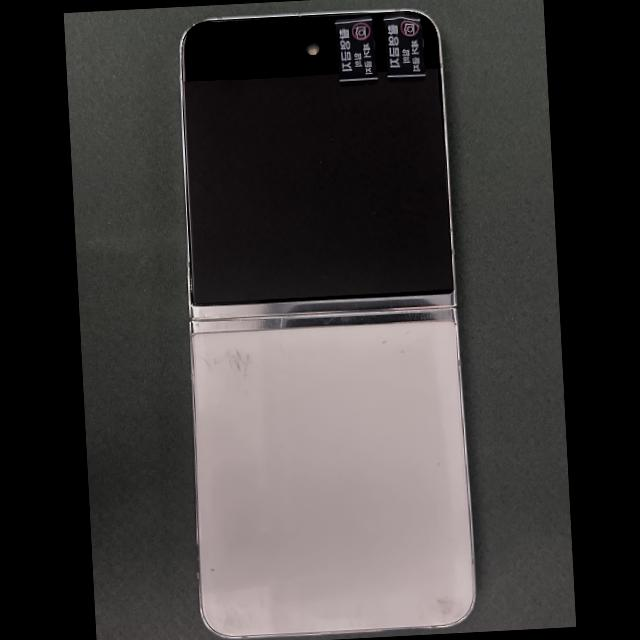phone: (178, 8, 477, 640)
sticker: (335, 16, 378, 87), (384, 13, 425, 82)
